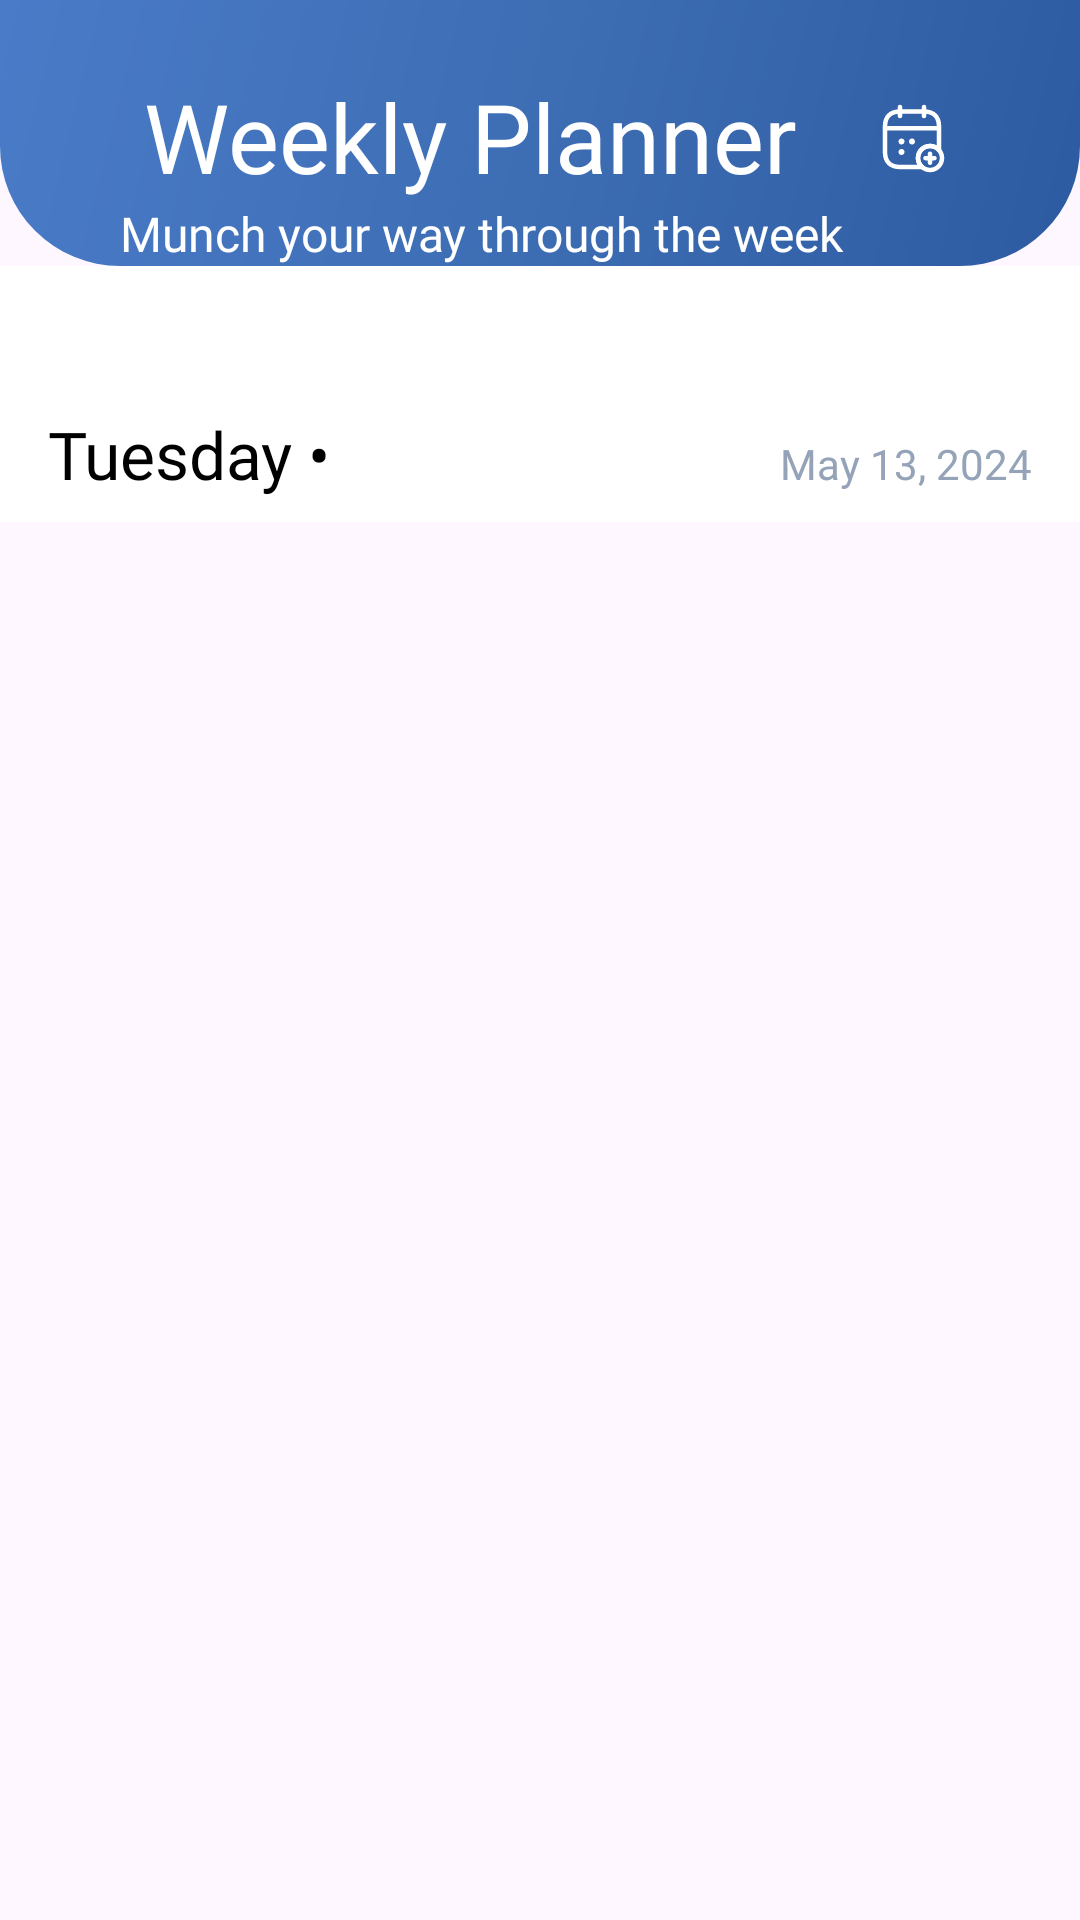

Locate icon controls on the screen. Image size 1080x1920, boxes as (x1, y1, x2, y2).
Select custom date: (882, 104, 945, 173)
